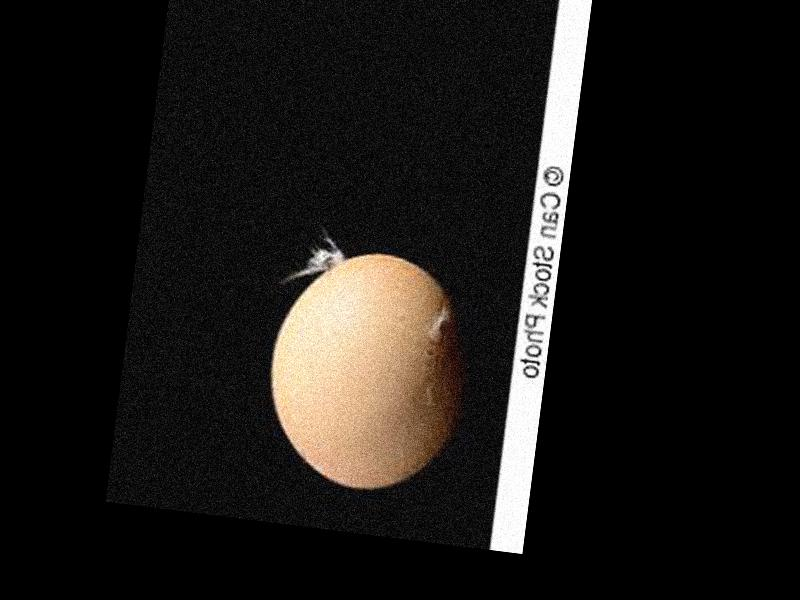Eggs: (259, 242, 481, 500)
